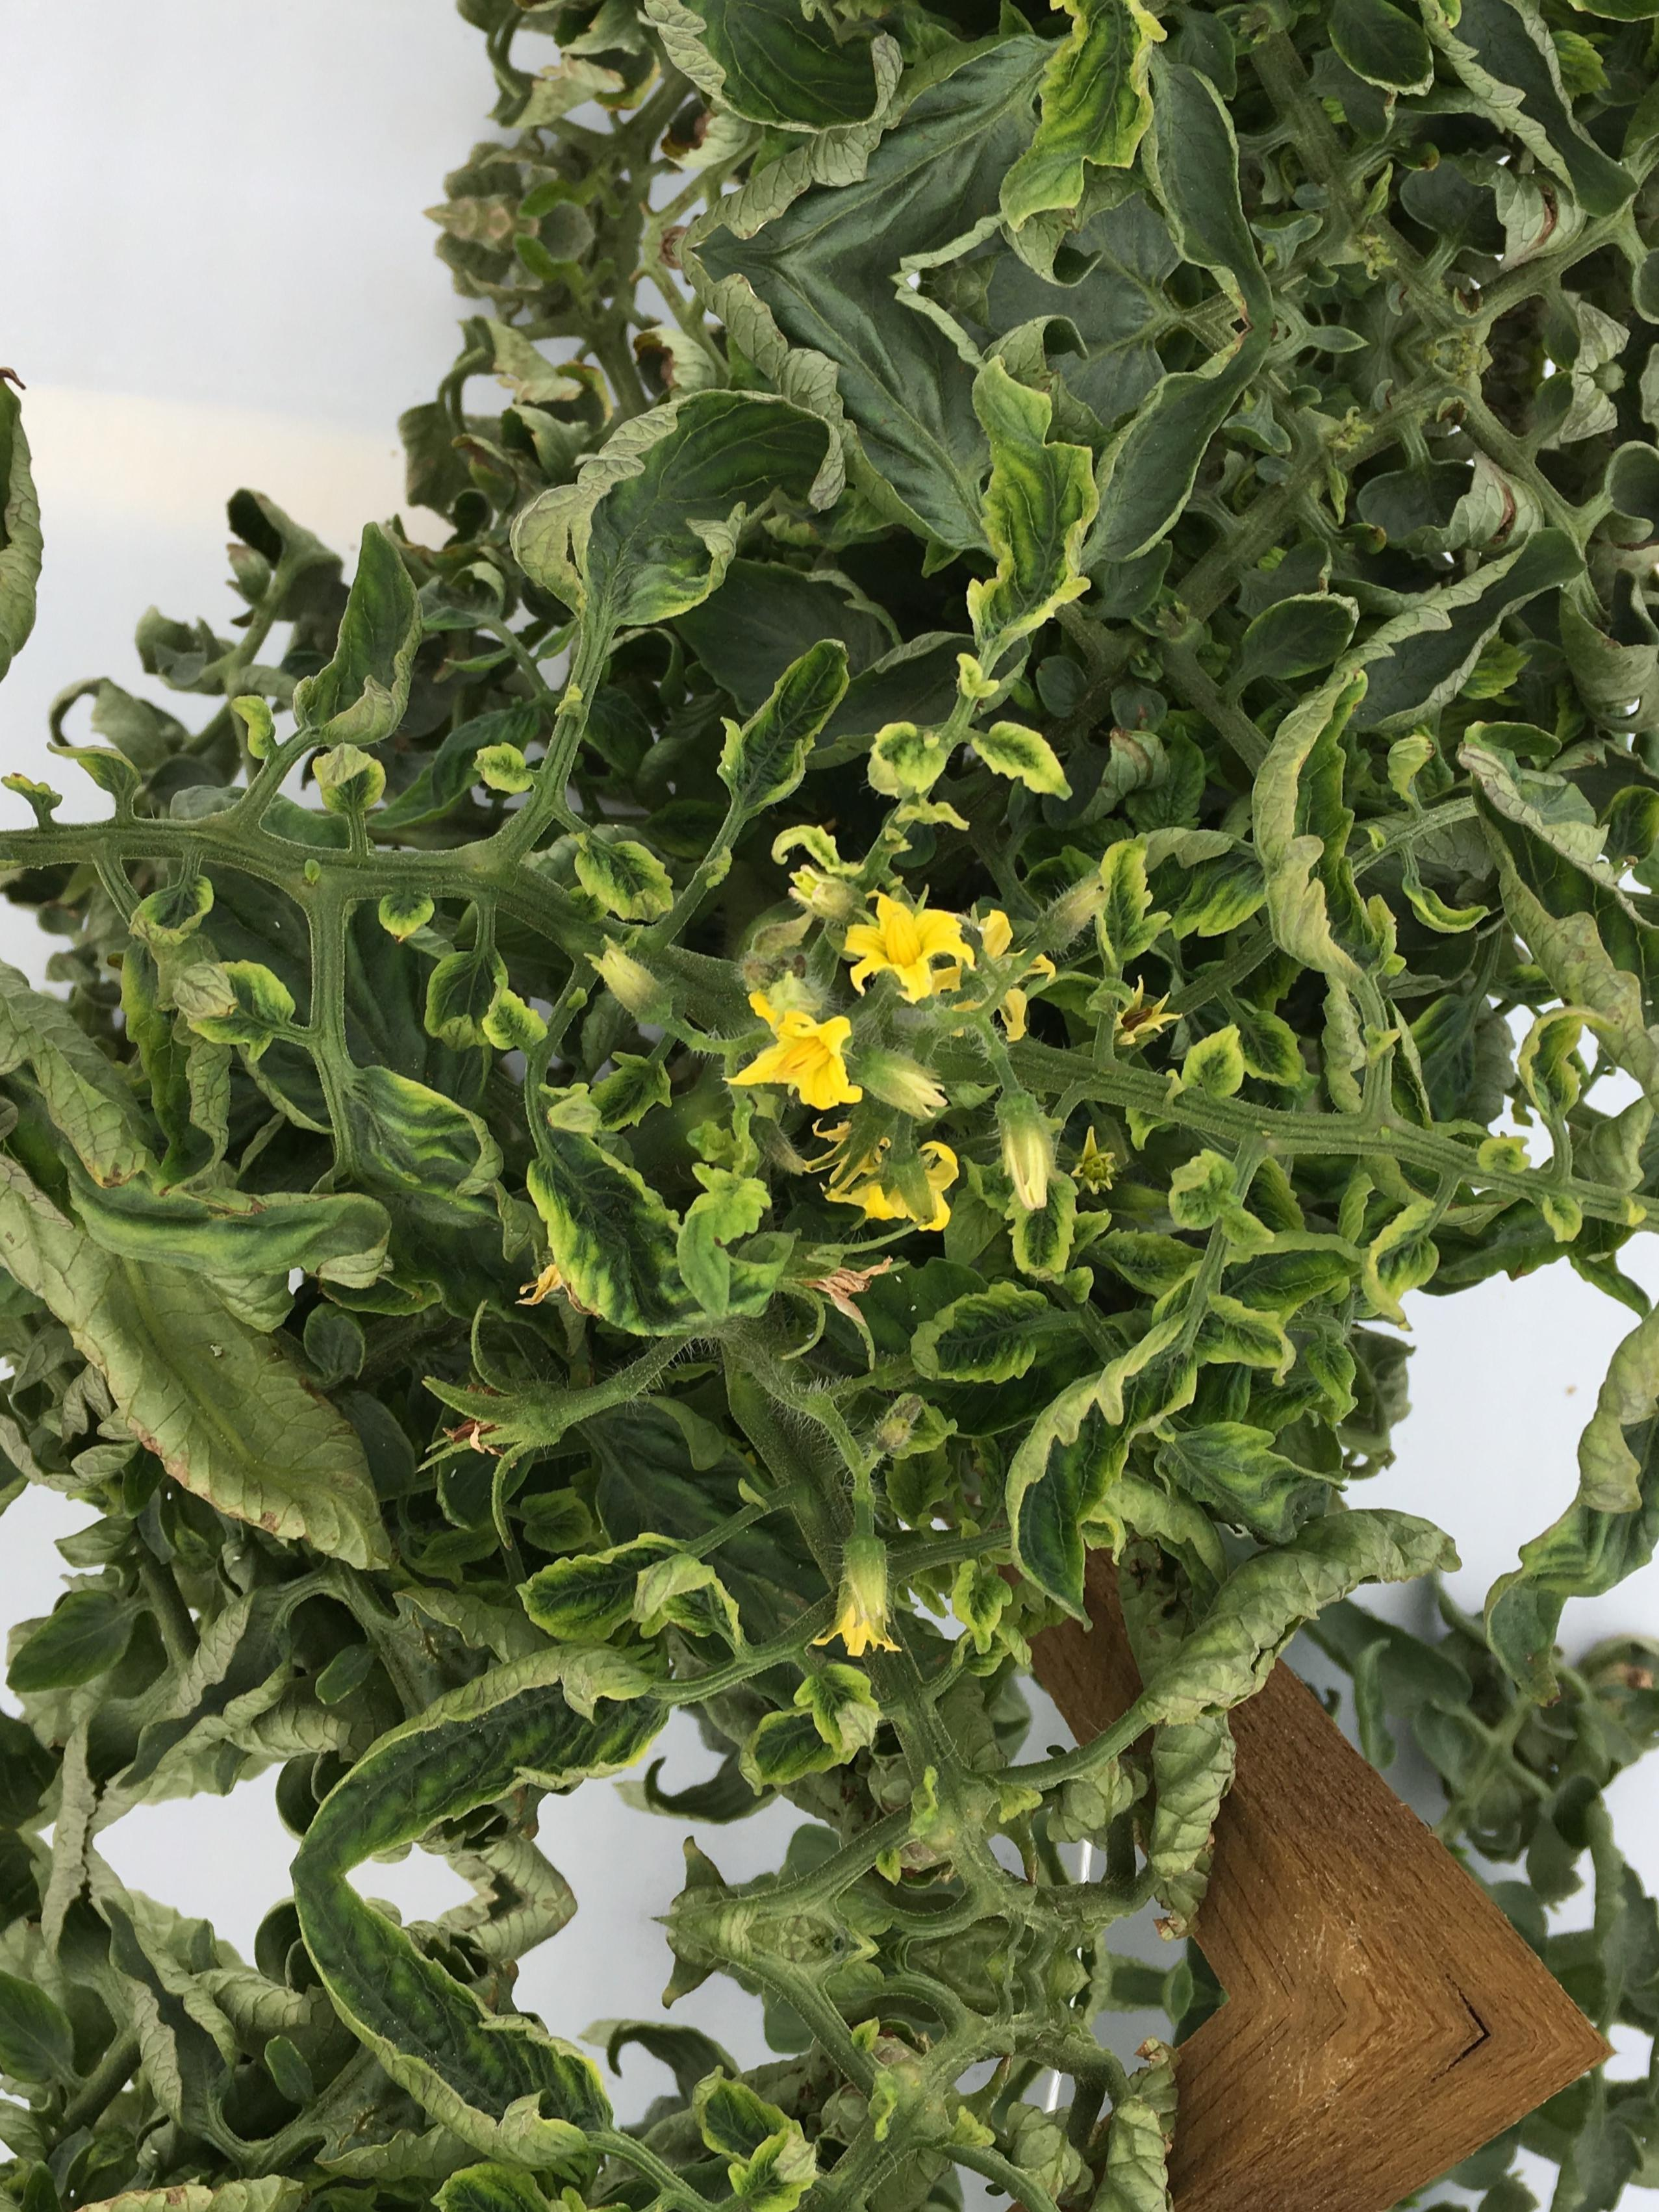Tomato leaf yellow virus: (1220, 558, 1502, 1098), (457, 347, 889, 682), (969, 1253, 1303, 1656), (861, 295, 1157, 697), (484, 1088, 816, 1382), (310, 1035, 596, 1333), (476, 1504, 763, 1701), (903, 1260, 1077, 1426)
